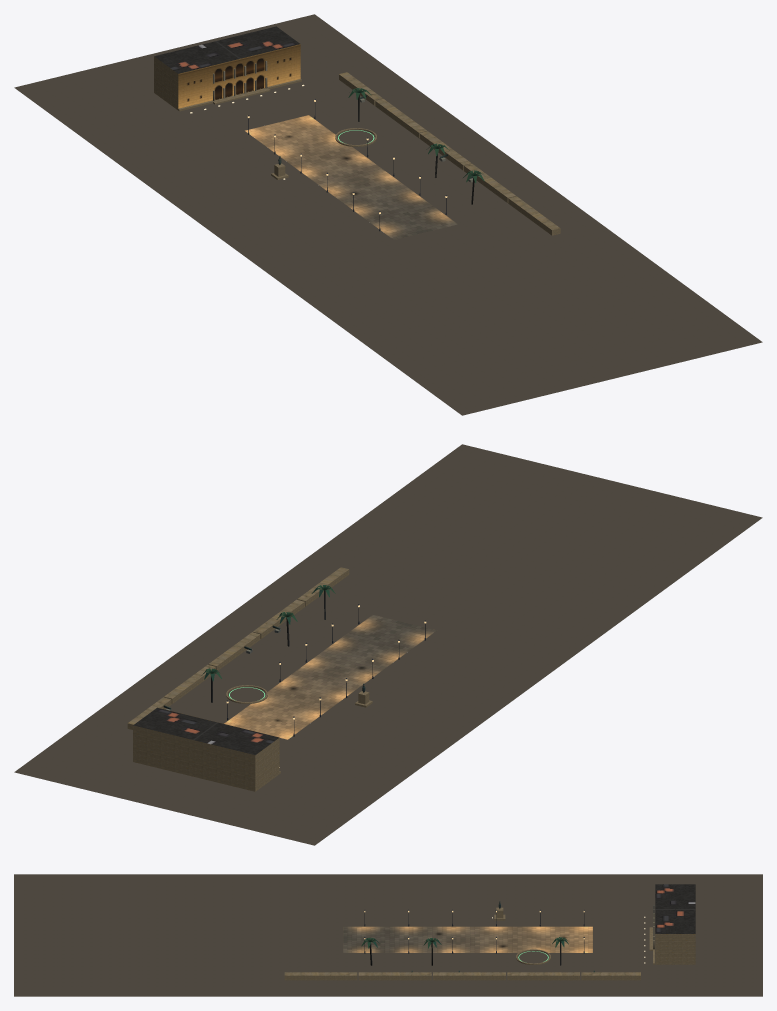
Rendered from lugar-santodomingo.glb.
The picture shows the model from 3 angles, top to bottom: view 1: azimuth 30°, elevation 25°; view 2: azimuth 150°, elevation 25°; view 3: azimuth 270°, elevation 25°; orthographic projection. The views are drawn at different scales.
Visible parts, largest first — view 1: luzG-cerca, luzS-pista, planoE, vert-cerca; view 2: luzG-cerca, luzS-pista, vert-cerca; view 3: luzG-cerca, luzS-pista, vert-cerca.
Part boxes in pixels (bbox=[...]): luzG-cerca: bbox=[14, 14, 762, 415]; luzS-pista: bbox=[154, 26, 560, 239]; planoE: bbox=[178, 44, 447, 214]; vert-cerca: bbox=[213, 61, 484, 231]; luzG-cerca: bbox=[14, 444, 762, 845]; luzS-pista: bbox=[127, 567, 436, 791]; vert-cerca: bbox=[163, 585, 425, 736]; luzG-cerca: bbox=[14, 874, 762, 996]; luzS-pista: bbox=[284, 884, 695, 980]; vert-cerca: bbox=[361, 901, 654, 972].
Size of the model in its own units: 86 by 10.1 by 222.
Materials: 10 (6 with a texture image).
